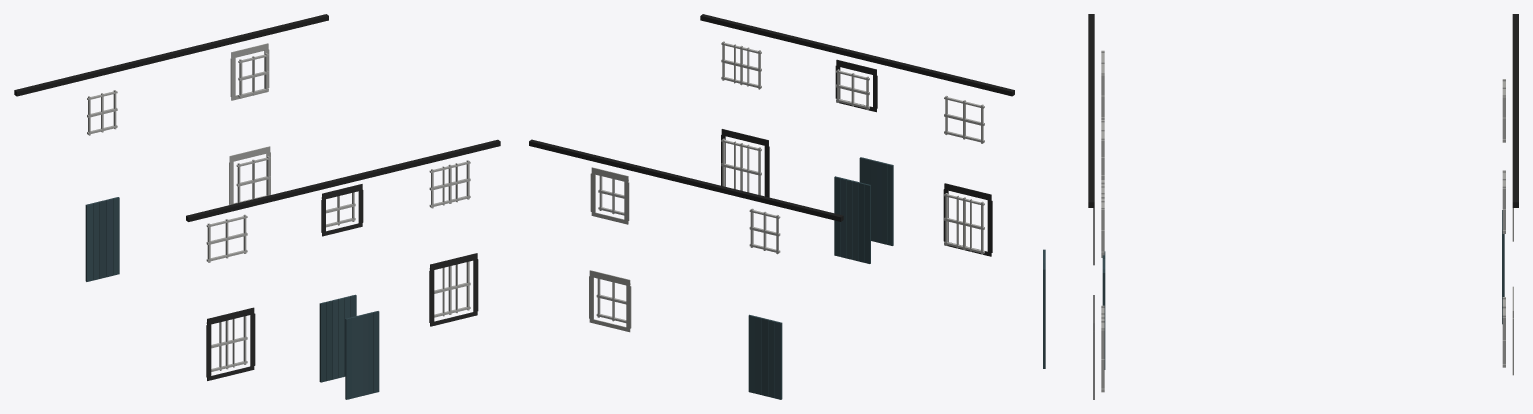
Rendered from SM_Bld_135_Wood.glb.
3 views of the same model, side by side, from view 1: azimuth 30°, elevation 25°; view 2: azimuth 150°, elevation 25°; view 3: azimuth 270°, elevation 25° (orthographic). The views are drawn at different scales.
Visible parts, largest first — view 1: SM_Bld_135_Wood; view 2: SM_Bld_135_Wood; view 3: SM_Bld_135_Wood.
Boxes of the visible parts, x1,y1,x2,y2 form: SM_Bld_135_Wood: [14, 14, 500, 399]; SM_Bld_135_Wood: [529, 14, 1014, 399]; SM_Bld_135_Wood: [1043, 14, 1518, 399].
Size of the model in its own units: 8.53 by 5.3 by 9.11.
